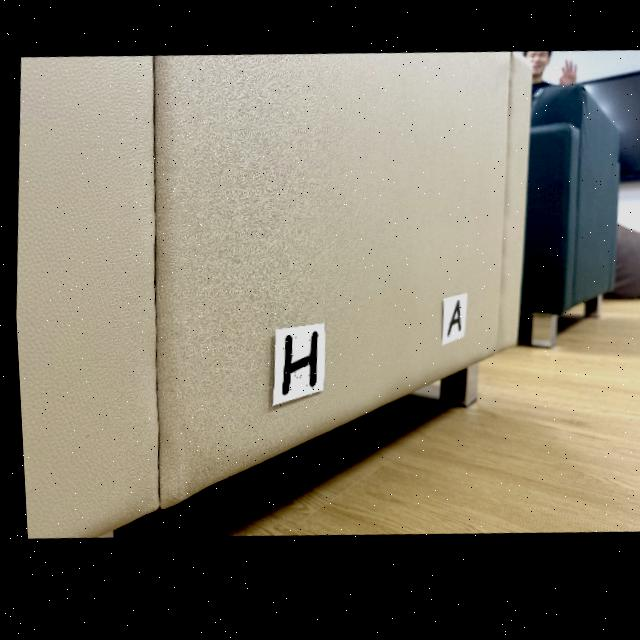A: (443, 307, 457, 343)
H: (277, 336, 313, 399)
